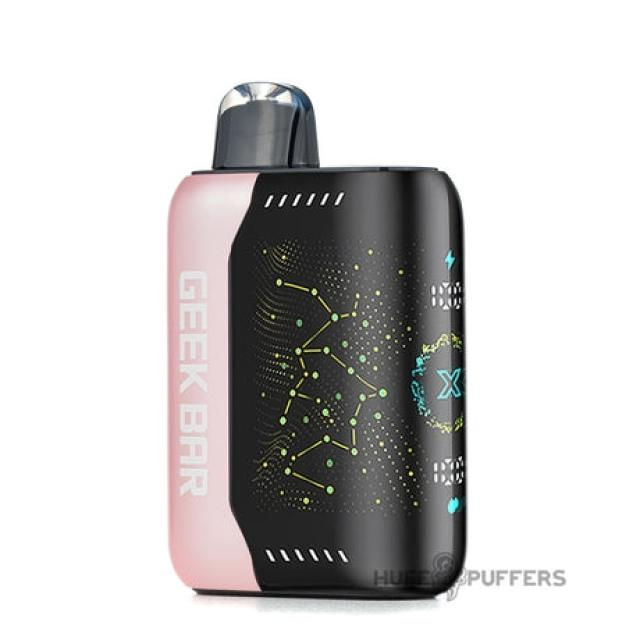Vape-images: (165, 79, 468, 600)
